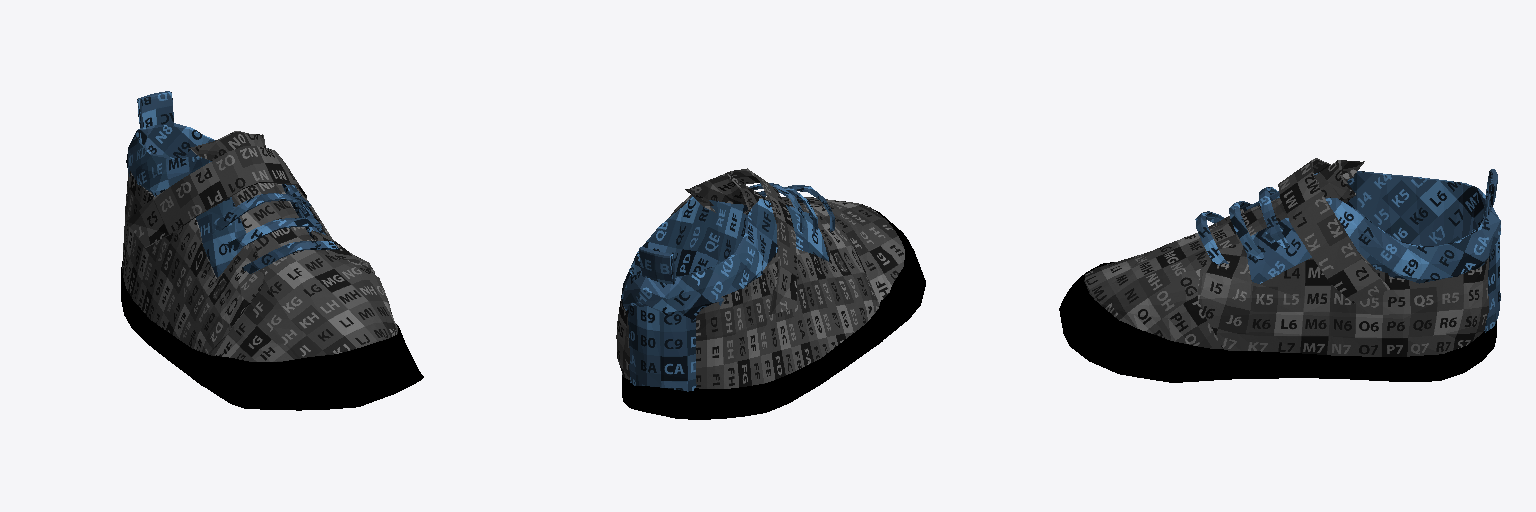
3 renders of one model, left to right at view 1: azimuth 30°, elevation 25°; view 2: azimuth 150°, elevation 25°; view 3: azimuth 270°, elevation 25°, orthographic.
Visible parts, largest first — view 1: pPlane5, pPlane4, pPlane7, pPlane9, pPlane2, pPlane6, pCube3, pPlane8, pPlane12, pPlane11, pPlane10, pPlane1; view 2: pPlane4, pPlane2, pPlane6, pPlane5, pPlane3, pPlane9, pPlane7, pCube3, pPlane1; view 3: pPlane1, pPlane2, pPlane5, pPlane7, pPlane6, pPlane9, pPlane3, pPlane12, pPlane11, pPlane10.
Boxes of the visible parts, x1,y1,x2,y2 form: pPlane5: [189, 131, 397, 361]; pPlane4: [122, 171, 264, 354]; pPlane7: [197, 324, 423, 408]; pPlane9: [126, 146, 306, 247]; pPlane2: [126, 123, 325, 277]; pPlane6: [121, 261, 210, 386]; pCube3: [137, 91, 173, 127]; pPlane8: [214, 377, 423, 410]; pPlane12: [242, 241, 339, 273]; pPlane11: [225, 218, 322, 250]; pPlane10: [213, 193, 310, 230]; pPlane1: [295, 185, 374, 273]; pPlane4: [696, 215, 878, 388]; pPlane2: [621, 196, 828, 319]; pPlane6: [622, 303, 883, 417]; pPlane5: [685, 174, 904, 306]; pPlane3: [628, 305, 696, 391]; pPlane9: [669, 168, 796, 314]; pPlane7: [845, 201, 925, 344]; pCube3: [639, 247, 675, 284]; pPlane1: [616, 300, 629, 379]; pPlane1: [1198, 243, 1488, 356]; pPlane2: [1243, 171, 1500, 283]; pPlane5: [1084, 160, 1364, 348]; pPlane7: [1059, 262, 1229, 381]; pPlane6: [1208, 321, 1496, 381]; pPlane9: [1278, 158, 1389, 303]; pPlane3: [1484, 237, 1500, 332]; pPlane12: [1195, 211, 1228, 265]; pPlane11: [1229, 201, 1263, 259]; pPlane10: [1259, 187, 1288, 248].
Size of the model in its own units: 5.6 by 6.32 by 12.54.
3 materials, 2 textured.